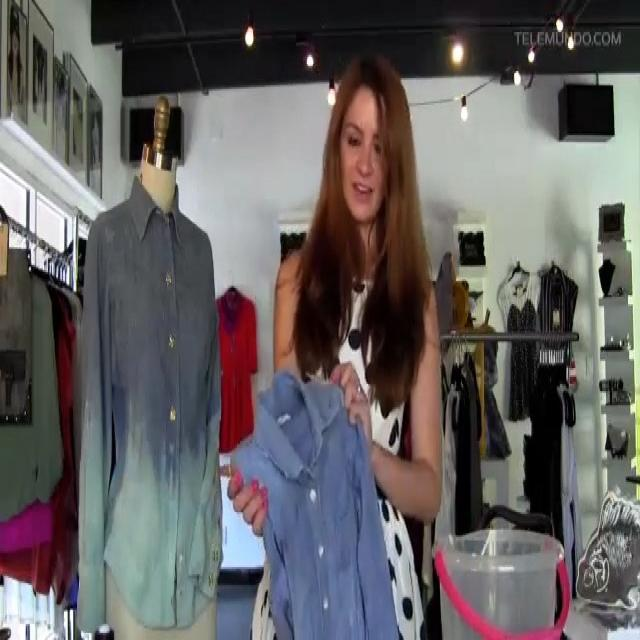shirt: (74, 173, 223, 633), (228, 367, 400, 640)
